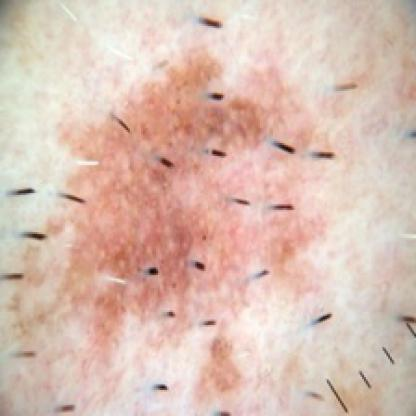malignant: (67, 69, 297, 306)
